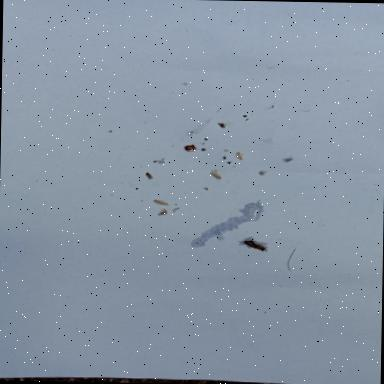pbw: (210, 168, 220, 180), (153, 199, 169, 206), (235, 151, 243, 160)
